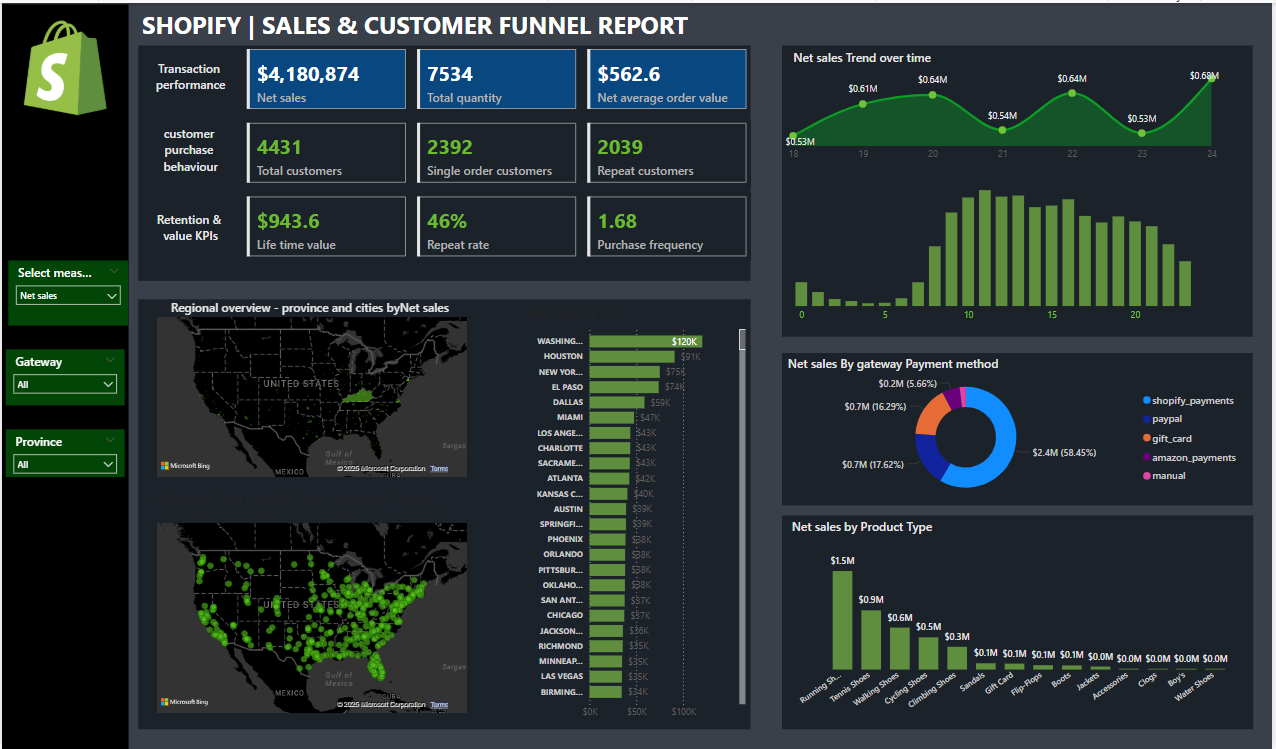

Layout of this report page (visuals, bound fields, positions):
{"tool":"powerbi","page":{"name":"Shopify analysis","canvas":[1700,999],"ordinal":0},"visuals":[{"type":"shape","box":[0,1.8,169.5,998.7],"z":0},{"type":"textbox","box":[182.2,1.8,769.1,54.7],"z":1000},{"type":"shape","box":[182.2,56.5,820.1,315.3],"z":2000},{"type":"cardVisual","fields":{"Data":["shopify_sales.Net sales","shopify_sales.Total quantity","shopify_sales.Net average order value"]},"box":[323.1,56.9,679.6,90.4],"z":3000},{"type":"card","fields":{"Values":["shopify_sales.Transaction perf"]},"box":[182.5,60.3,140.6,75.3],"z":4000},{"type":"cardVisual","fields":{"Data":["shopify_sales.Total customers","shopify_sales.Single order customers","shopify_sales.Repeat customers"]},"box":[323.1,155.7,679.6,90.4],"z":5000},{"type":"card","fields":{"Values":["shopify_sales.cutomer purchase behaviour"]},"box":[182.5,144,140.6,98.8],"z":6000},{"type":"cardVisual","fields":{"Data":["shopify_sales.Life time value","shopify_sales.Repeat rate","shopify_sales.Purchase frequency"]},"box":[323.1,254.4,679.6,90.4],"z":7000},{"type":"card","fields":{"Values":["shopify_sales.Retention & value kpi"]},"box":[182.5,251.1,140.6,98.8],"z":8000},{"type":"shape","box":[182.2,397.3,820.1,575.9],"z":9000},{"type":"filledMap","fields":{"Category":["shopify_sales.Location"]},"box":[202.3,397.3,424.6,242.4],"z":10000},{"type":"slicer","fields":{"Values":["Select measure.Select measure"]},"box":[8.4,344.8,160.7,87],"z":11000},{"type":"map","fields":{"Category":["shopify_sales.Location"]},"box":[202.3,652.4,424.6,302.5],"z":12000},{"type":"clusteredBarChart","fields":{"Y":["shopify_sales.Net sales"],"Category":["shopify_sales.CITY"]},"box":[698,404.6,302.5,563.1],"z":13000},{"type":"card","fields":{"Values":["shopify_sales.Map title"]},"box":[196.8,388.2,430.1,43.7],"z":14000},{"type":"shape","box":[1044.3,56.5,630.6,390],"z":15000},{"type":"areaChart","fields":{"Y":["shopify_sales.Net sales"],"Category":["shopify_sales.Invoice Date.Variation.Date Hierarchy.Day"]},"box":[1044.3,60.1,590.5,160.4],"z":16000},{"type":"columnChart","fields":{"Y":["shopify_sales.Net sales"],"Category":["shopify_sales.Hour"]},"box":[1057,220.5,565,215.1],"z":17000},{"type":"card","fields":{"Values":["shopify_sales.Trend Title"]},"box":[1044.3,56.5,215.1,36.4],"z":18000},{"type":"shape","box":[1044.3,468.4,630.6,204.1],"z":19000},{"type":"donutChart","fields":{"Y":["shopify_sales.Net sales"],"Category":["shopify_sales.Gateway"]},"box":[1049.6,490.5,617.7,182.5],"z":20000},{"type":"card","fields":{"Values":["shopify_sales.gateway payment"]},"box":[1044.5,470.4,298,30.1],"z":21000},{"type":"shape","box":[1044.5,686.3,631.1,286.2],"z":22000},{"type":"columnChart","fields":{"Y":["shopify_sales.Net sales"],"Category":["shopify_sales.Product Type"]},"box":[1061.3,719.8,597.6,236],"z":23000},{"type":"card","fields":{"Values":["shopify_sales.product title"]},"box":[1044.5,686.3,214.3,33.5],"z":24000},{"type":"image","box":[10,18.4,149,137.3],"z":25000},{"type":"slicer","fields":{"Values":["shopify_sales.Gateway"]},"box":[5,463.7,159,75.3],"z":26000},{"type":"slicer","fields":{"Values":["shopify_sales.Billing Address Province"]},"box":[5,570.8,159,63.6],"z":27000}]}

Visuals, with their boxes on the page's 1700x999 design canvas (x1, y1, x2, y2). These are canvas units, not pixel positions in the 1276x749 screenshot, which may show the page scaled, cropped or inside an application window:
shape: <box>0,2,170,1000</box>
textbox: <box>182,2,951,56</box>
shape: <box>182,56,1002,372</box>
cardVisual - shopify_sales.Net sales x shopify_sales.Total quantity: <box>323,57,1003,147</box>
card - shopify_sales.Transaction perf: <box>182,60,323,136</box>
cardVisual - shopify_sales.Total customers x shopify_sales.Single order customers: <box>323,156,1003,246</box>
card - shopify_sales.cutomer purchase behaviour: <box>182,144,323,243</box>
cardVisual - shopify_sales.Life time value x shopify_sales.Repeat rate: <box>323,254,1003,345</box>
card - shopify_sales.Retention & value kpi: <box>182,251,323,350</box>
shape: <box>182,397,1002,973</box>
filledMap - shopify_sales.Location: <box>202,397,627,640</box>
slicer - Select measure.Select measure: <box>8,345,169,432</box>
map - shopify_sales.Location: <box>202,652,627,955</box>
clusteredBarChart - shopify_sales.Net sales x shopify_sales.CITY: <box>698,405,1000,968</box>
card - shopify_sales.Map title: <box>197,388,627,432</box>
shape: <box>1044,56,1675,446</box>
areaChart - shopify_sales.Net sales x shopify_sales.Invoice Date.Variation.Date Hierarchy.Day: <box>1044,60,1635,220</box>
columnChart - shopify_sales.Net sales x shopify_sales.Hour: <box>1057,220,1622,436</box>
card - shopify_sales.Trend Title: <box>1044,56,1259,93</box>
shape: <box>1044,468,1675,672</box>
donutChart - shopify_sales.Net sales x shopify_sales.Gateway: <box>1050,490,1667,673</box>
card - shopify_sales.gateway payment: <box>1044,470,1342,500</box>
shape: <box>1044,686,1676,972</box>
columnChart - shopify_sales.Net sales x shopify_sales.Product Type: <box>1061,720,1659,956</box>
card - shopify_sales.product title: <box>1044,686,1259,720</box>
image: <box>10,18,159,156</box>
slicer - shopify_sales.Gateway: <box>5,464,164,539</box>
slicer - shopify_sales.Billing Address Province: <box>5,571,164,634</box>
